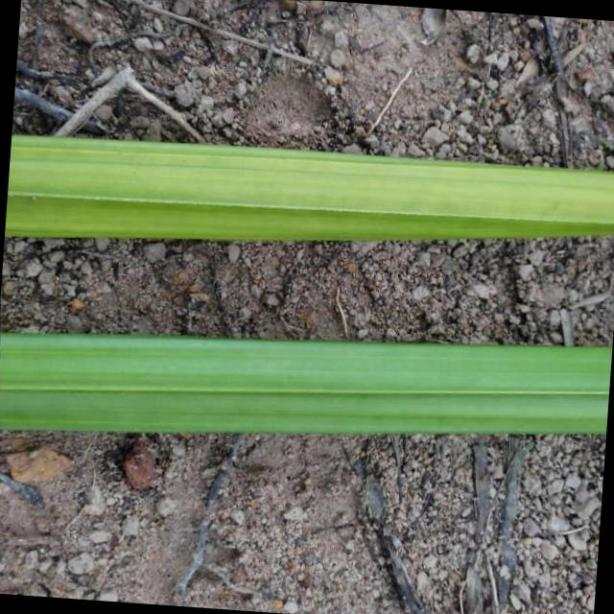nitrogen: (3, 128, 614, 244), (1, 327, 614, 438)
